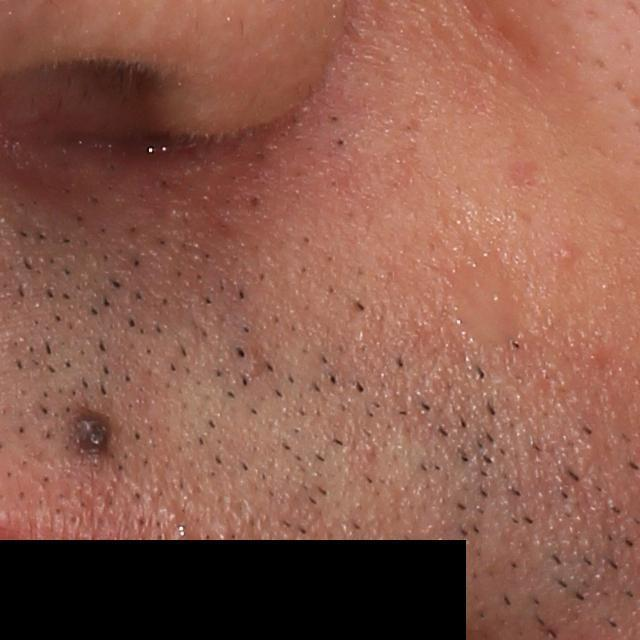comedo: (246, 191, 268, 211)
nevus: (61, 397, 112, 474)
papule: (556, 243, 580, 267)
